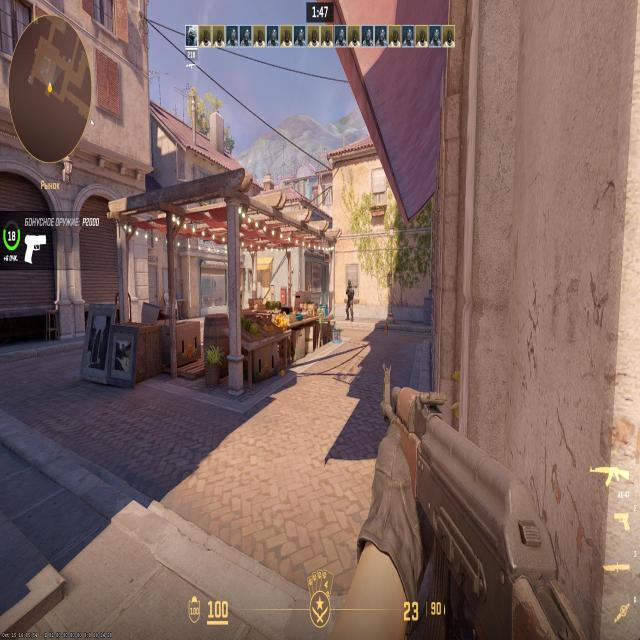CT: (346, 277, 354, 318)
CT_heat: (348, 283, 352, 290)
